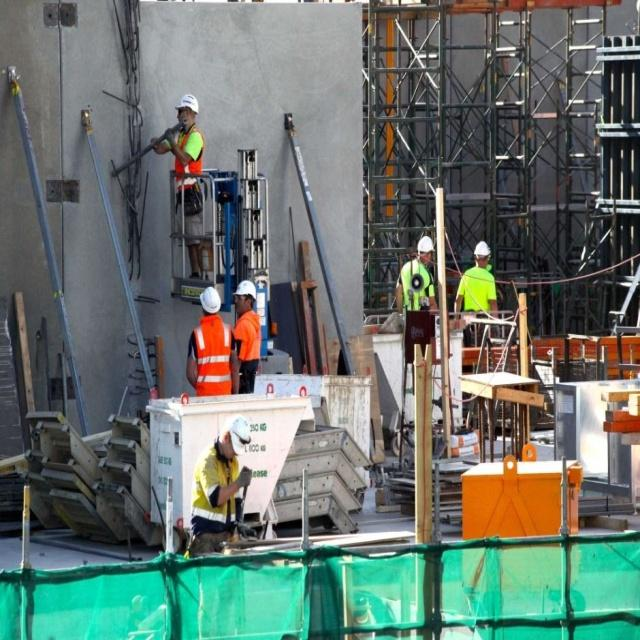helmet: (218, 551, 251, 613), (174, 124, 198, 169), (234, 373, 255, 416), (198, 380, 219, 420), (474, 319, 491, 356), (417, 312, 433, 351)
vest: (191, 424, 238, 525), (171, 170, 206, 258), (191, 595, 245, 640), (403, 349, 434, 420)
